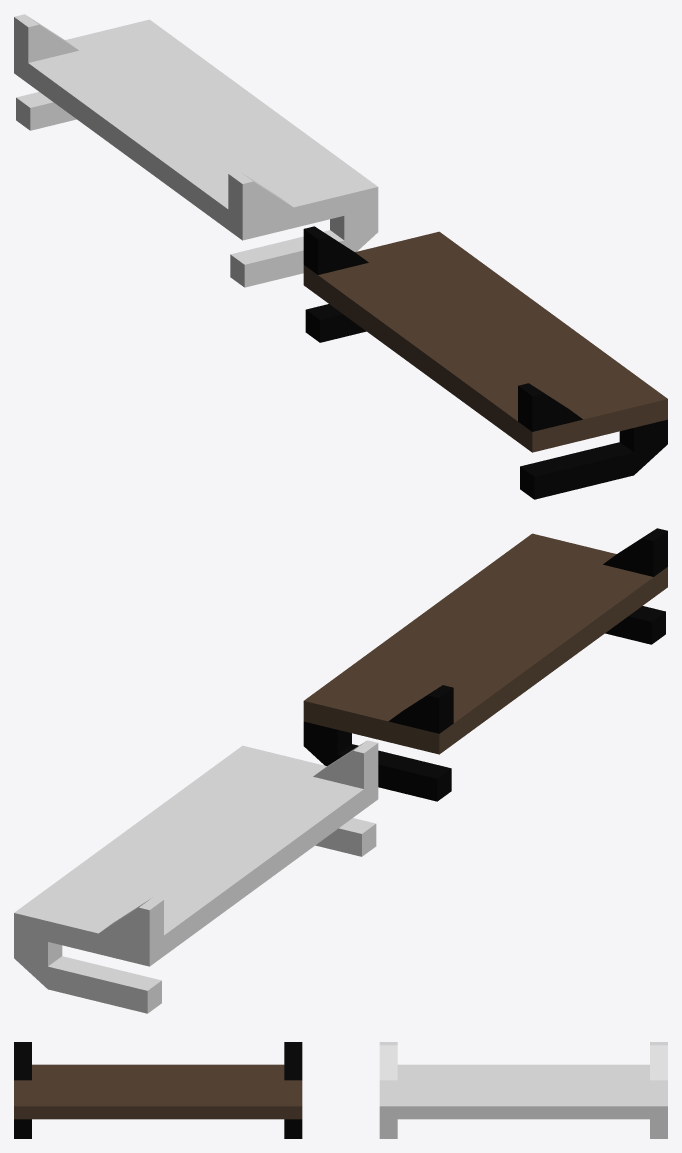
File: Low Poly Shelves.fbx
3 views of the same model, one above another, from view 1: azimuth 30°, elevation 25°; view 2: azimuth 150°, elevation 25°; view 3: azimuth 270°, elevation 25° (orthographic). The views are drawn at different scales.
Visible parts, largest first — view 1: Cube.001, Cube; view 2: Cube, Cube.001; view 3: Cube, Cube.001.
Boxes of the visible parts, x1,y1,x2,y2 form: Cube.001: [303, 226, 667, 499]; Cube: [14, 14, 378, 287]; Cube: [14, 740, 378, 1013]; Cube.001: [303, 528, 667, 801]; Cube: [379, 1042, 667, 1138]; Cube.001: [14, 1042, 302, 1138].
Size of the model in its own units: 92.11 by 67.49 by 609.
